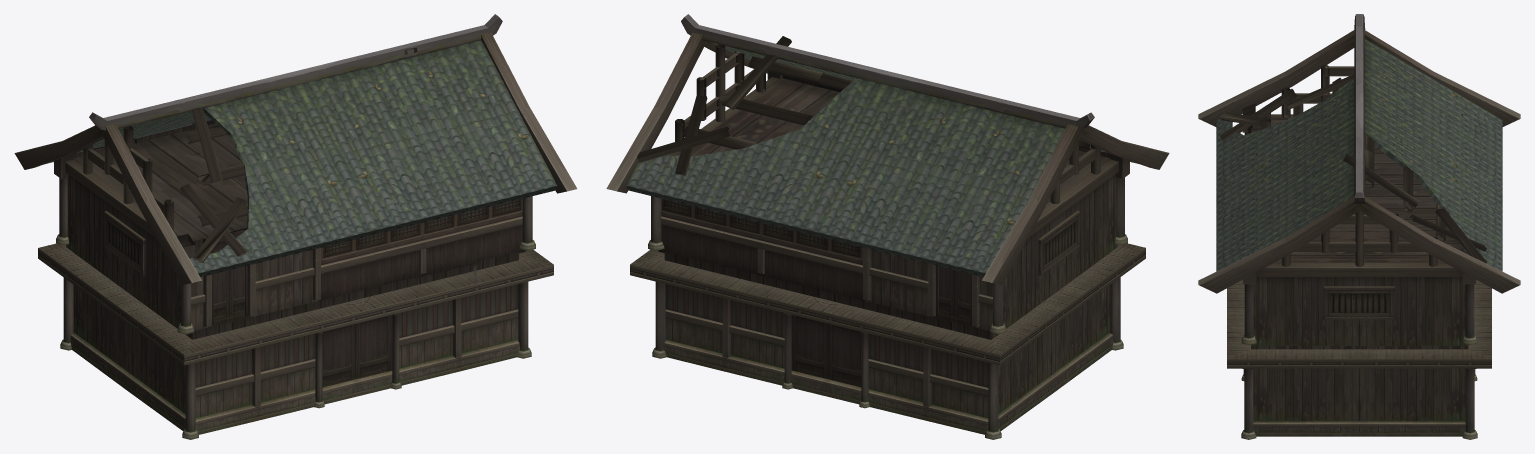
The model's file is house001.FBX.
3 renders of one model, left to right at view 1: azimuth 30°, elevation 25°; view 2: azimuth 150°, elevation 25°; view 3: azimuth 270°, elevation 25°, orthographic. The views are drawn at different scales.
Parts seen in each view (by area): view 1: DramaScene02_model_01_house001; view 2: DramaScene02_model_01_house001; view 3: DramaScene02_model_01_house001.
Part boxes in pixels (left/top/right/bottom): DramaScene02_model_01_house001: left=14, top=14, right=577, bottom=439; DramaScene02_model_01_house001: left=606, top=14, right=1169, bottom=439; DramaScene02_model_01_house001: left=1198, top=14, right=1520, bottom=439.
Bounding box in the file's own units: 13.77 × 9.2 × 10.35.
